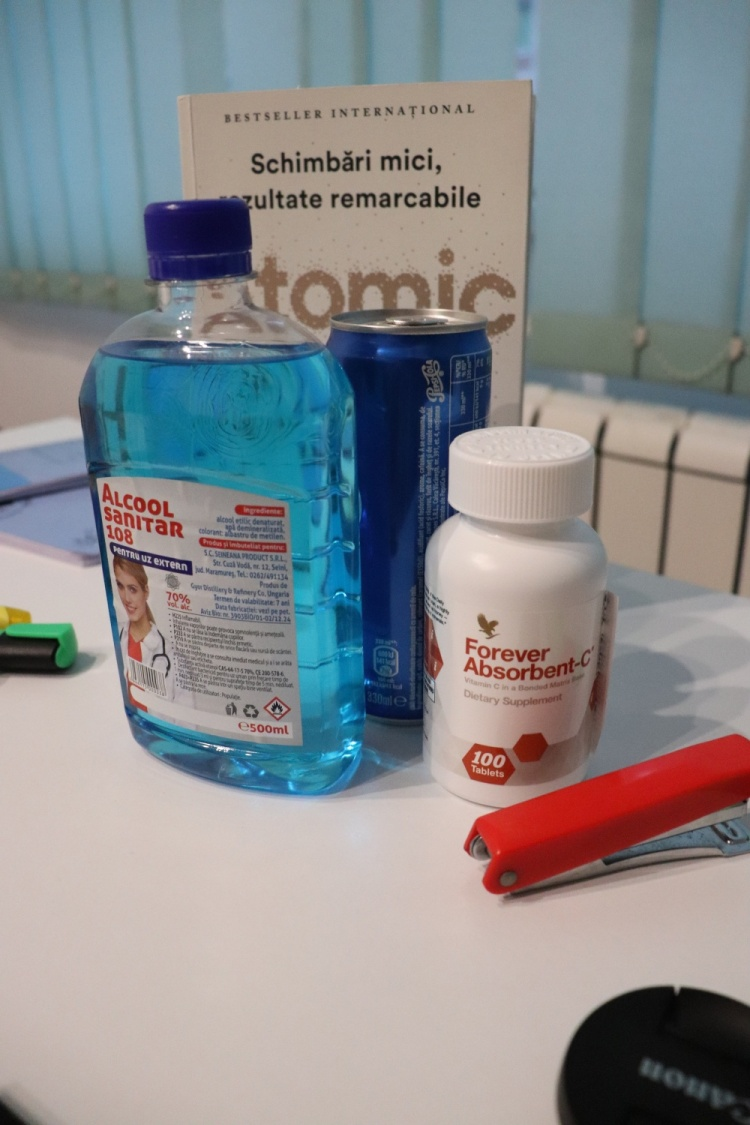pepsi: (312, 301, 464, 733)
